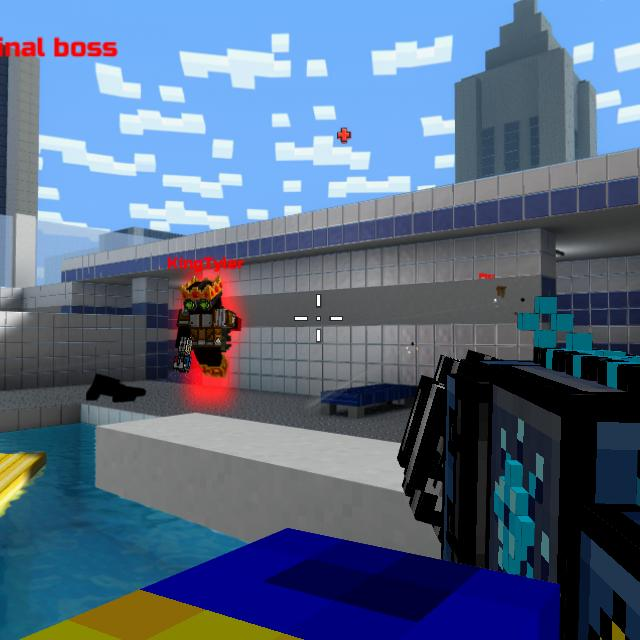Enemy: (178, 281, 240, 381)
